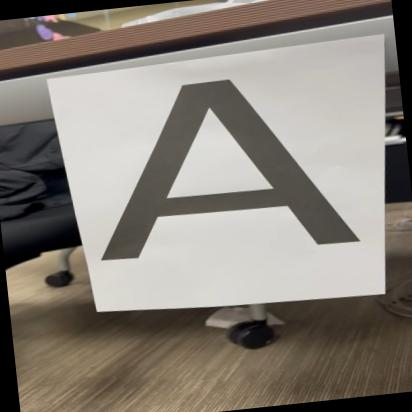seat: (66, 58, 372, 274)
